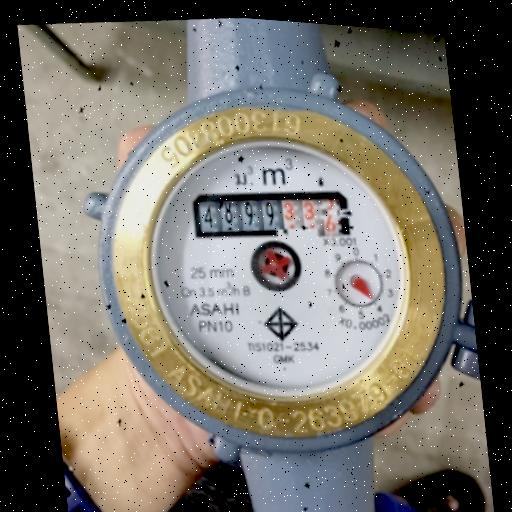3: (300, 198, 319, 230), (281, 199, 299, 230)
4: (199, 200, 218, 234)
6: (321, 197, 341, 238)
8: (219, 200, 237, 233)
9: (241, 200, 258, 232), (261, 198, 278, 230)
border_water_meter_number: (191, 178, 352, 253)
